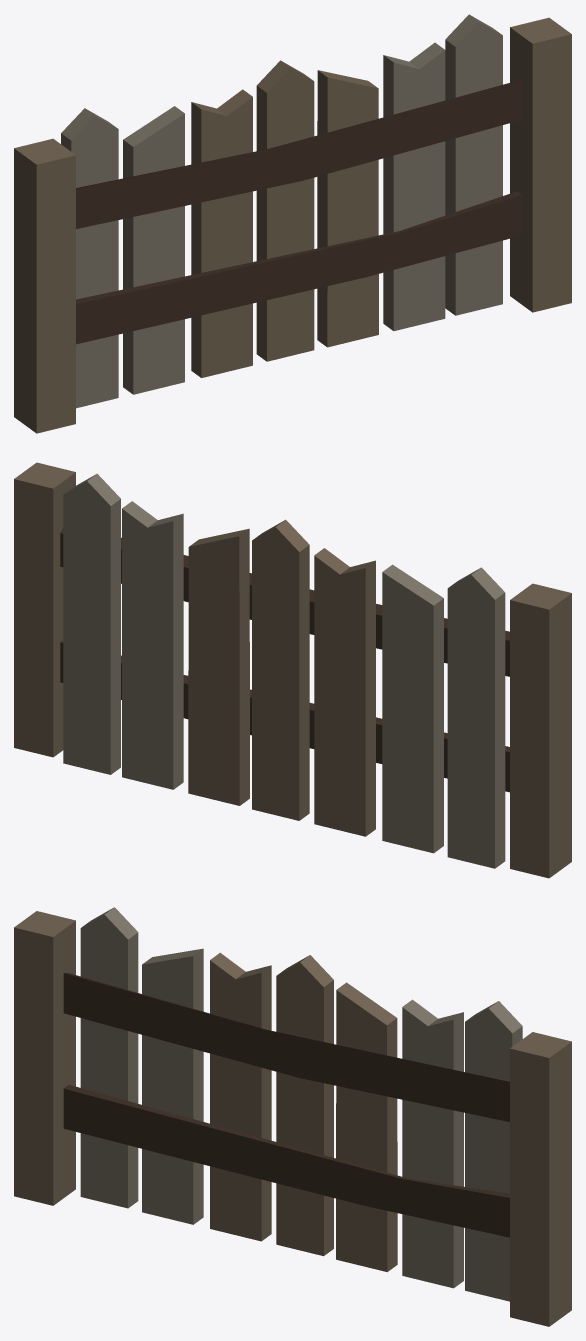
The model's file is fence01.gltf.
3 renders of one model, top to bottom at view 1: azimuth 30°, elevation 25°; view 2: azimuth 150°, elevation 25°; view 3: azimuth 330°, elevation 25°, orthographic.
Visible parts, largest first — view 1: SM_Fence_02; view 2: SM_Fence_02; view 3: SM_Fence_02.
Boxes of the visible parts, <box> form: SM_Fence_02: <box>14,14,571,433</box>; SM_Fence_02: <box>14,462,571,878</box>; SM_Fence_02: <box>14,907,571,1326</box>.
Size of the model in its own units: 2.12 by 1.09 by 0.1804.
